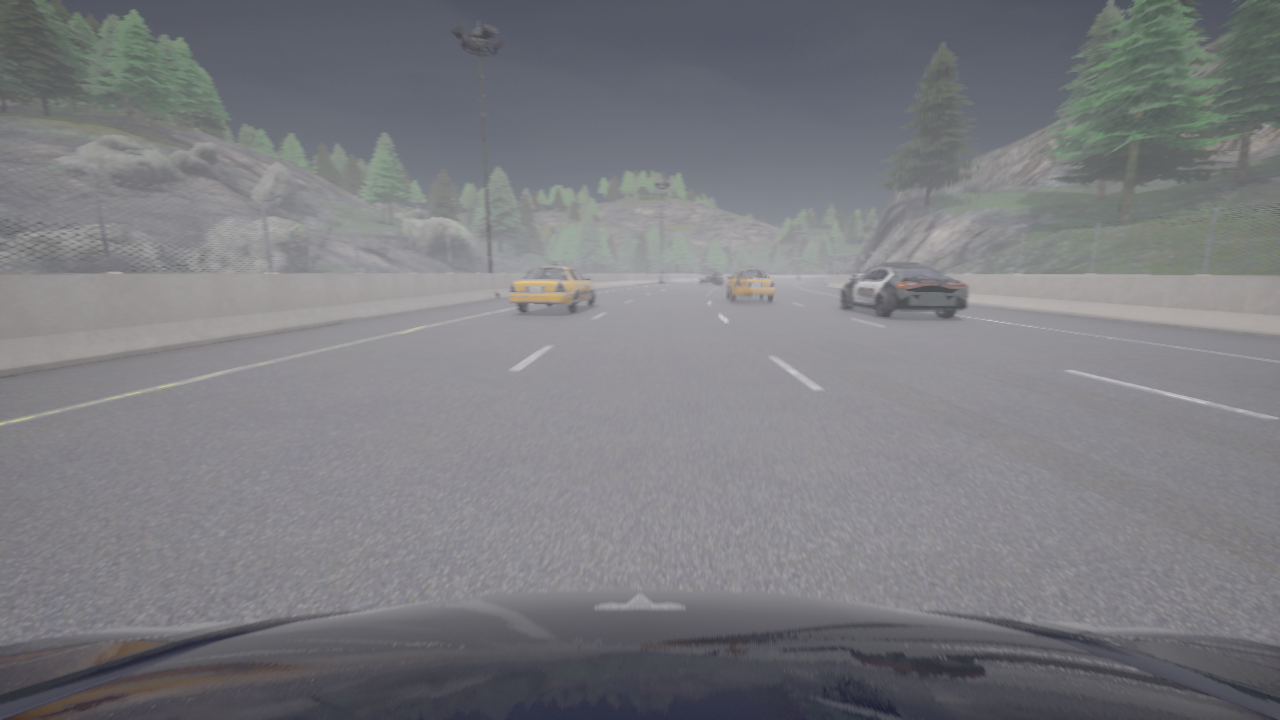cyclist: (0, 588, 1279, 719), (840, 262, 967, 317), (508, 261, 595, 312), (727, 265, 775, 301), (699, 270, 722, 284)
